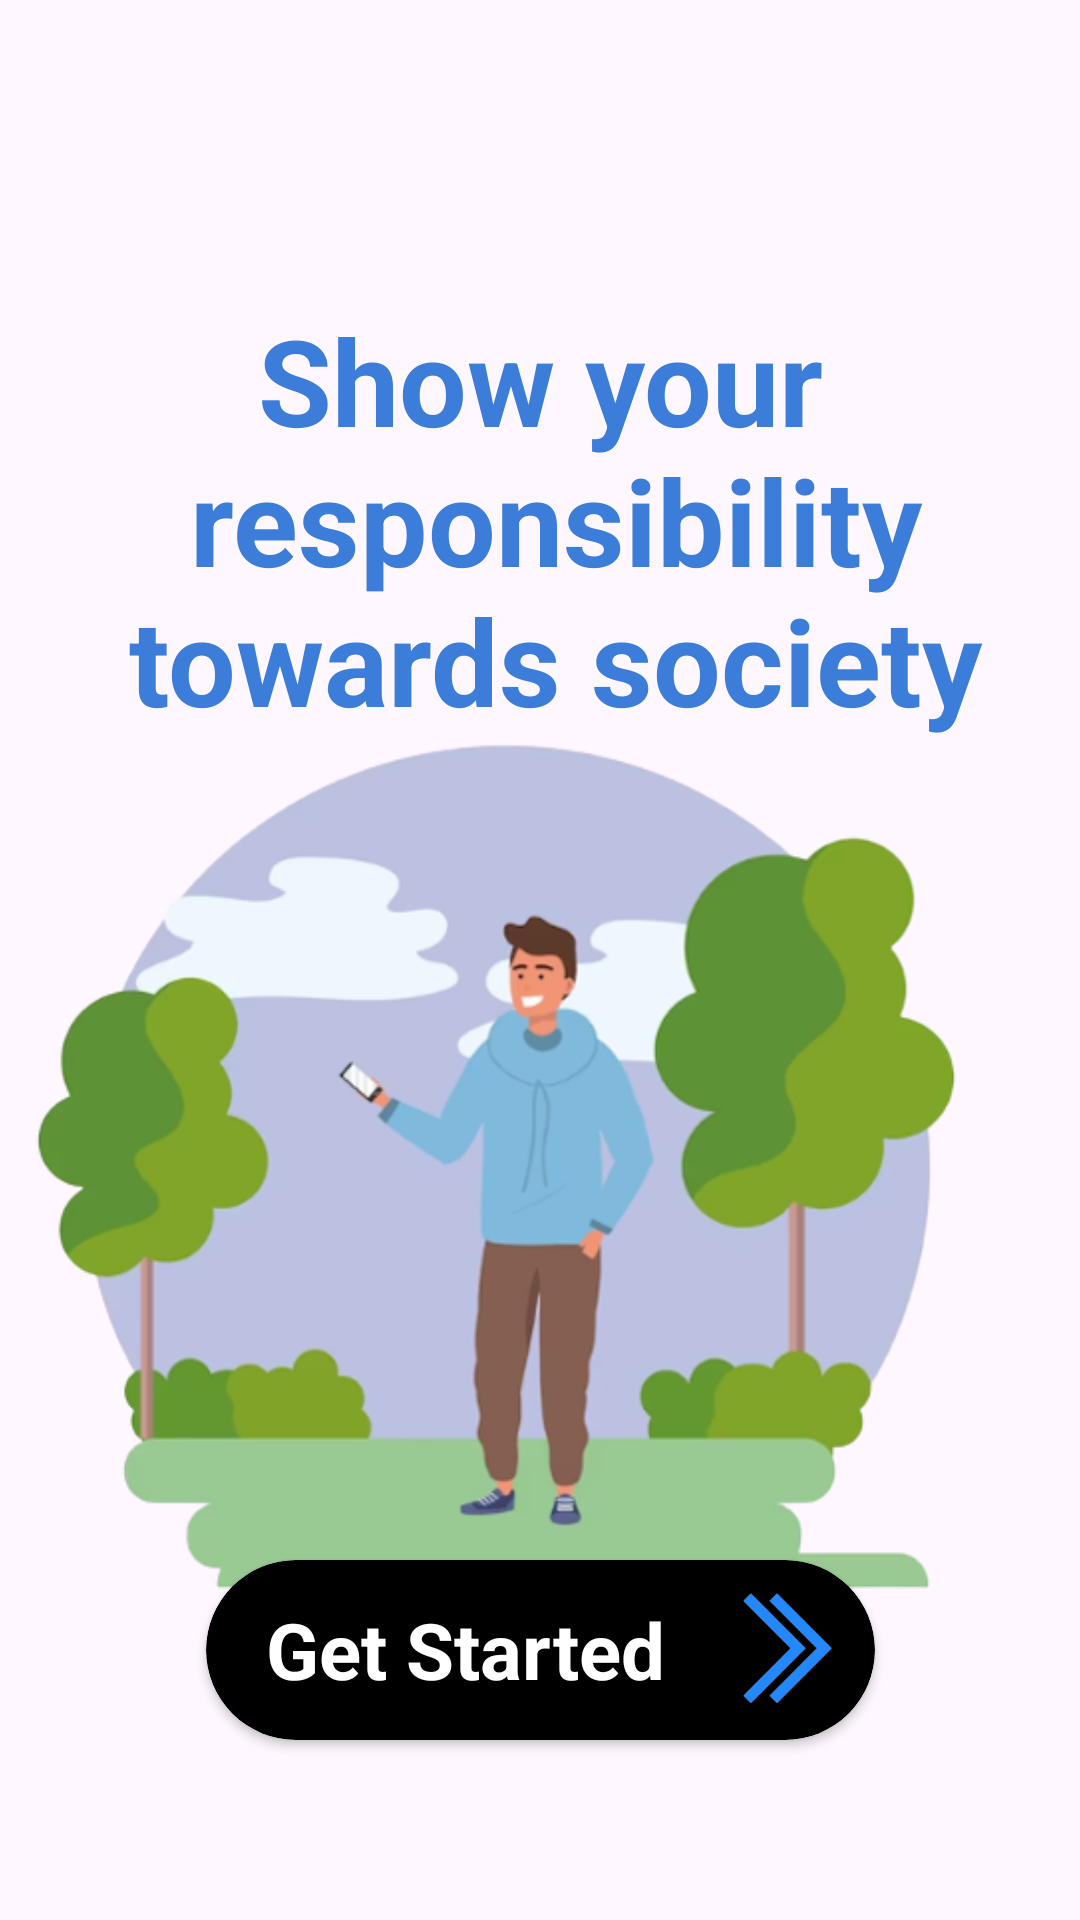

Where to tap for icons on this 1080×1920 app screen, as (x=x, y=y):
flechazul: (x=785, y=1650)
